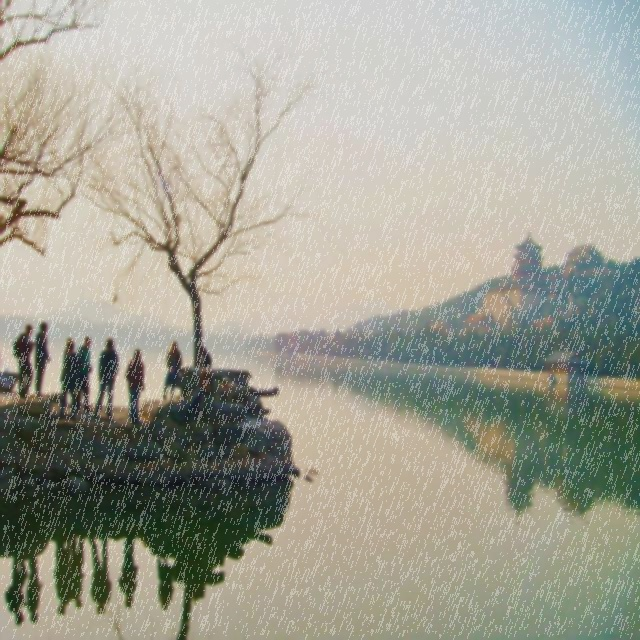pessoa: (3, 526, 174, 628), (91, 337, 119, 420), (56, 339, 81, 424), (11, 322, 37, 400), (124, 346, 146, 426), (74, 334, 94, 414), (32, 320, 52, 399), (161, 340, 182, 406), (59, 337, 79, 384), (198, 344, 213, 370), (0, 344, 3, 404), (74, 392, 80, 407)
